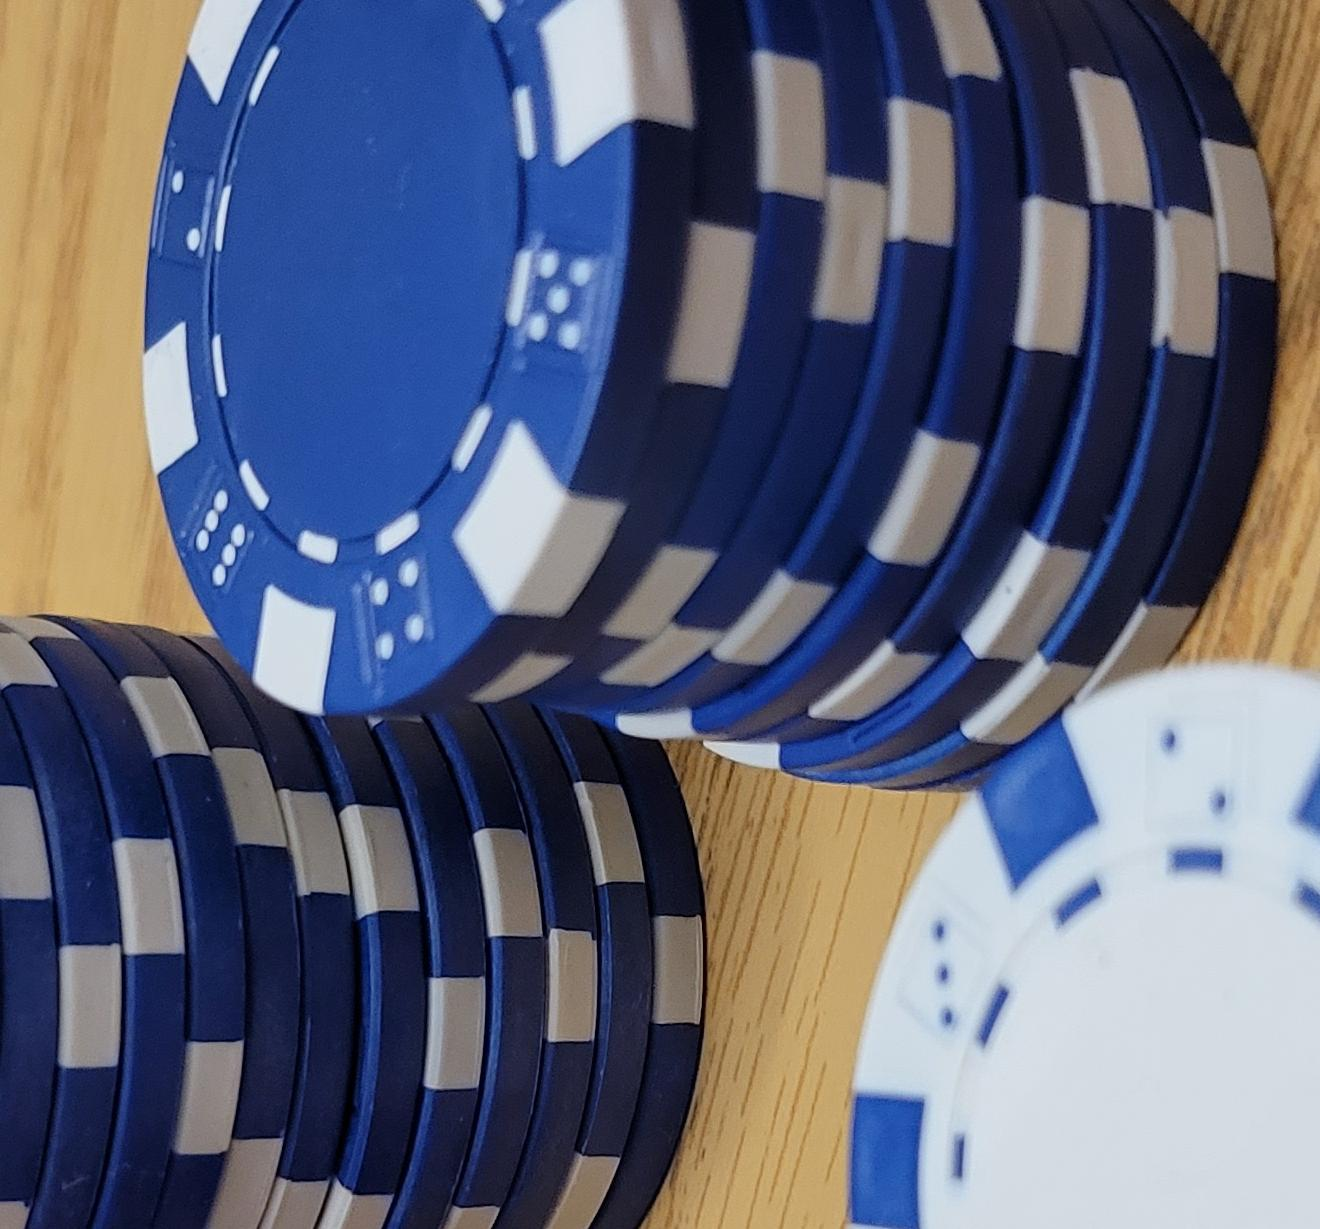Chip: (1, 155, 625, 1229)
